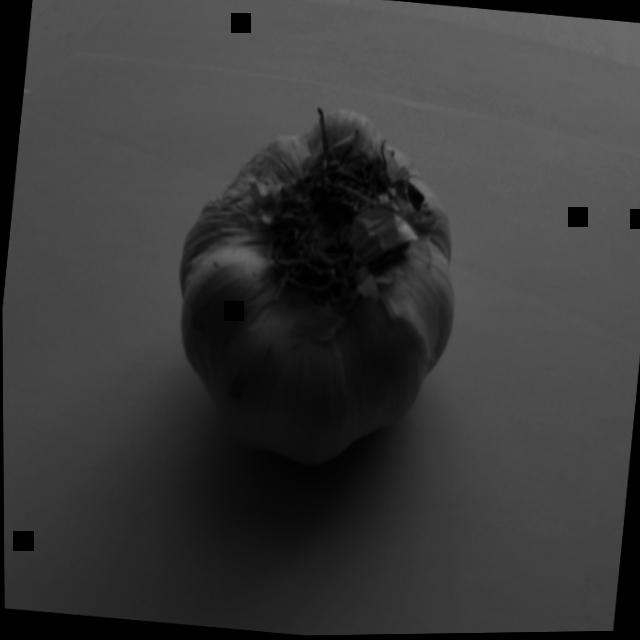Garlic: (139, 75, 497, 530)
